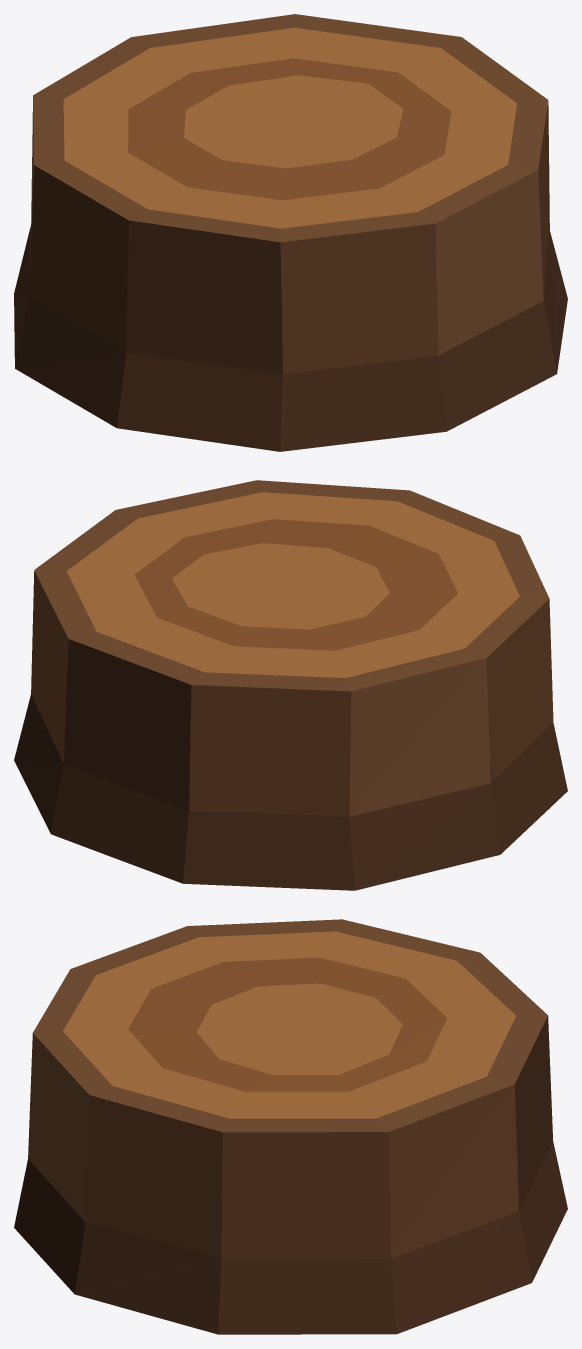
File: stump.obj
3 renders of one model, top to bottom at view 1: azimuth 30°, elevation 25°; view 2: azimuth 150°, elevation 25°; view 3: azimuth 270°, elevation 25°, orthographic. The views are drawn at different scales.
Parts seen in each view (by area): view 1: Stump; view 2: Stump; view 3: Stump.
Part boxes in pixels (box(x1,y1,x2,y2)): Stump: box(14, 14, 567, 451); Stump: box(14, 480, 567, 890); Stump: box(14, 919, 567, 1334).
Bounding box in the file's own units: 0.8393 × 0.334 × 0.8584.
